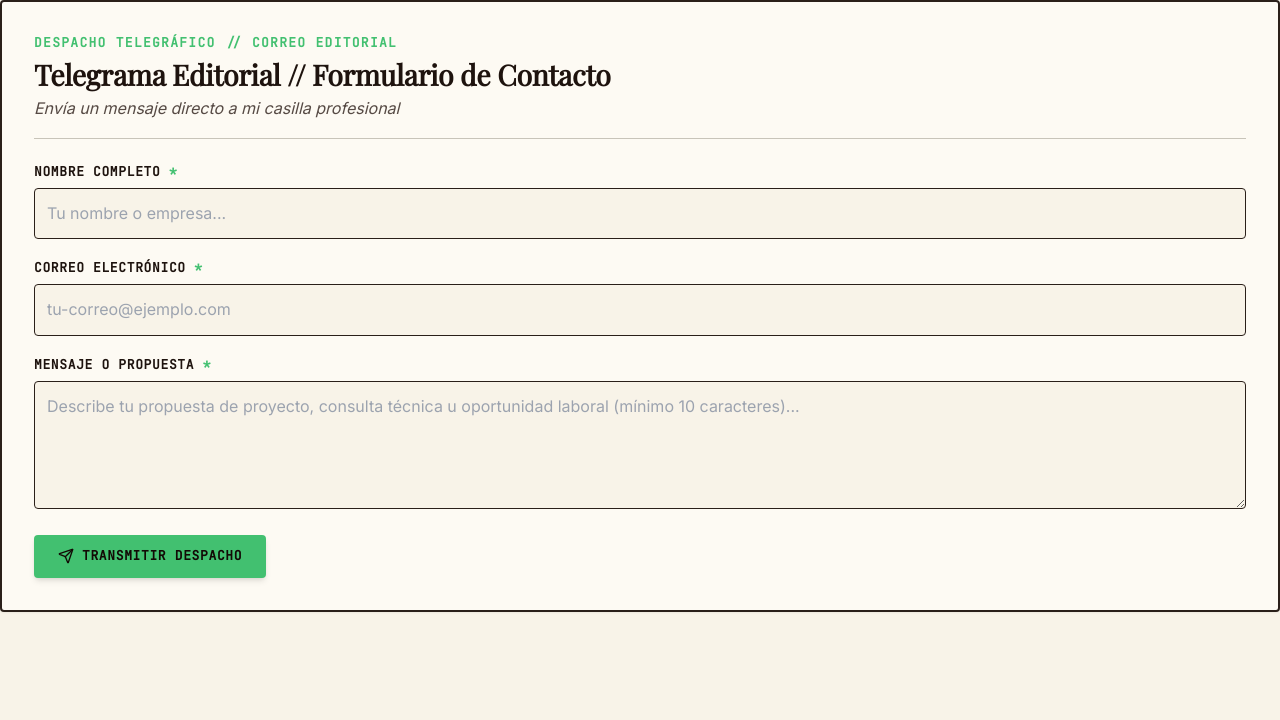
ContactForm Component (Zod validation & a11y) › valida con Zod y muestra mensajes de error accesibles cuando los campos están vacíos
Click the button "Transmitir Despacho" at (150, 556), box [34,535,266,578]
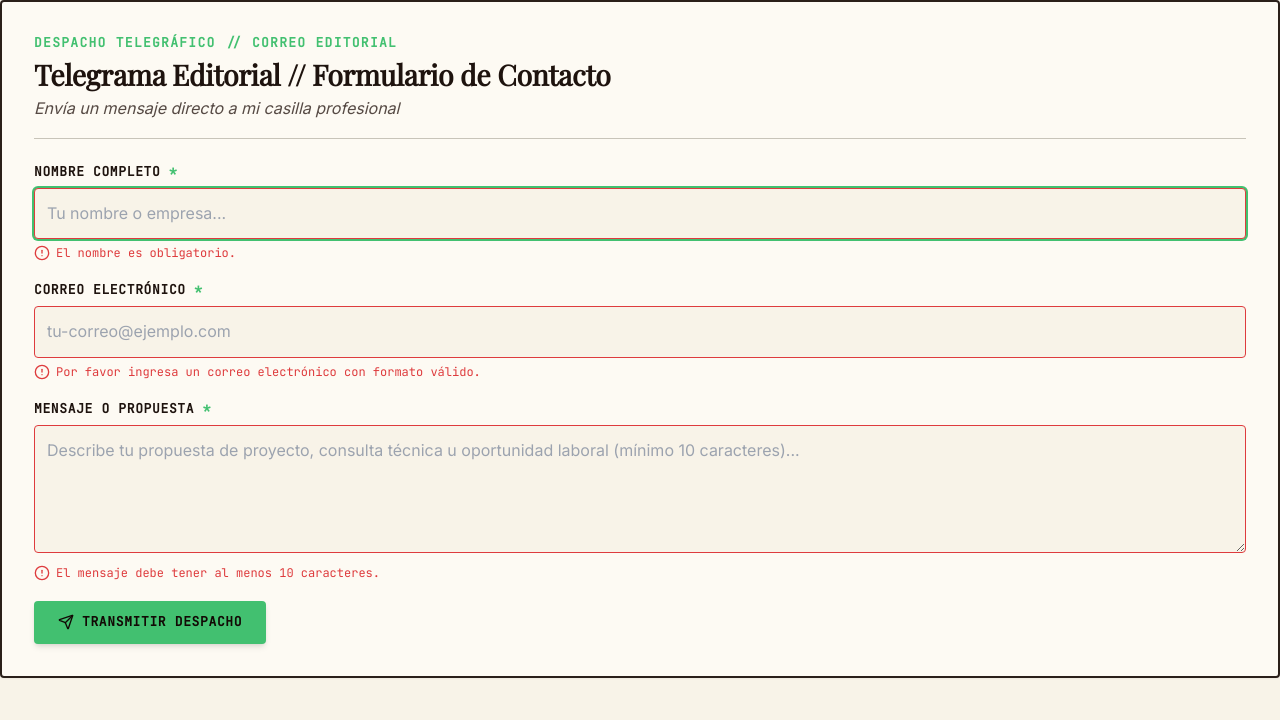
Expected: the text "El nombre es obligatorio." is shown, [56,245,236,261]
Expected: the text "Por favor ingresa un correo electrónico con formato válido." is shown, [56,364,481,380]
Expected: the text "El mensaje debe tener al menos 10 caracteres." is shown, [56,565,380,581]
